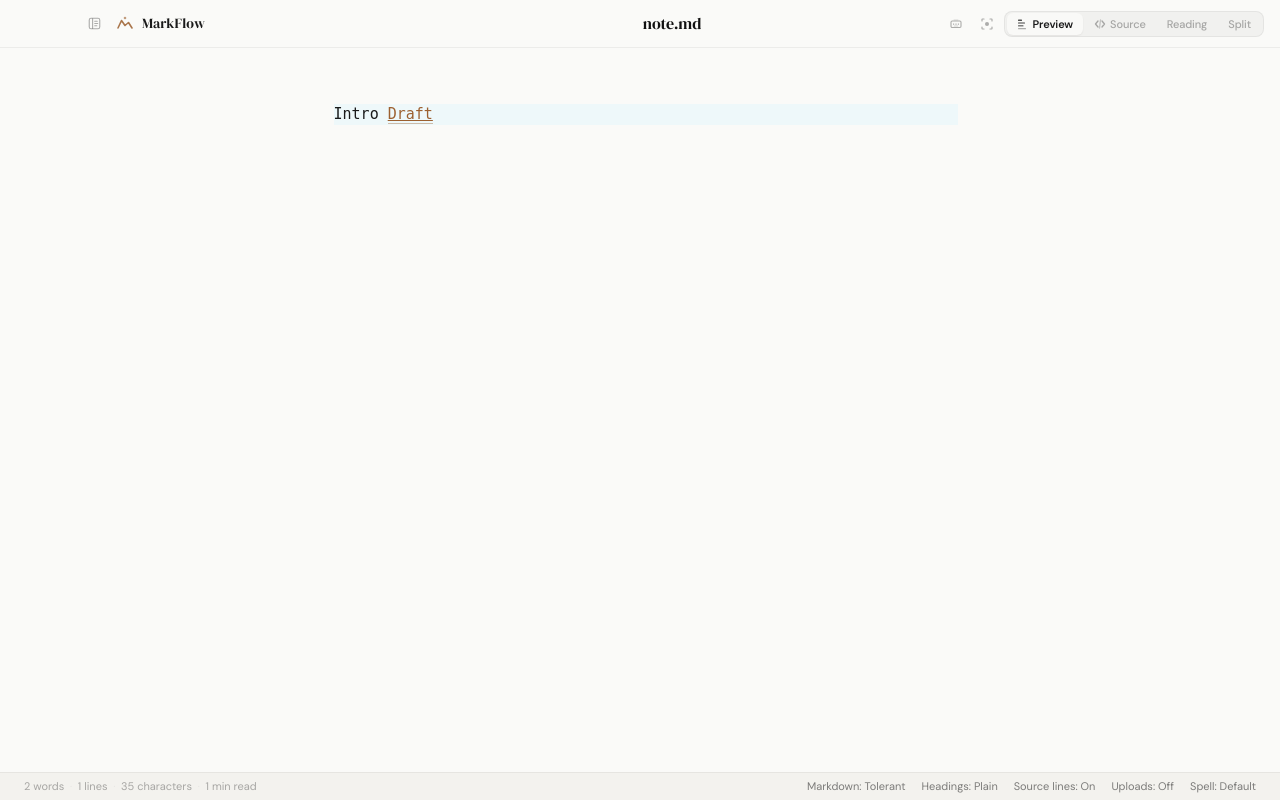
Scenario: App desktop integration › routes missing local markdown links through the create guidance path
This screenshot has width=1280, height=800.
What coordinates should you click on to do the following:
click the link with class "mf-link"
I would click on:
 (410, 114)
Its box is [388,105,433,124].
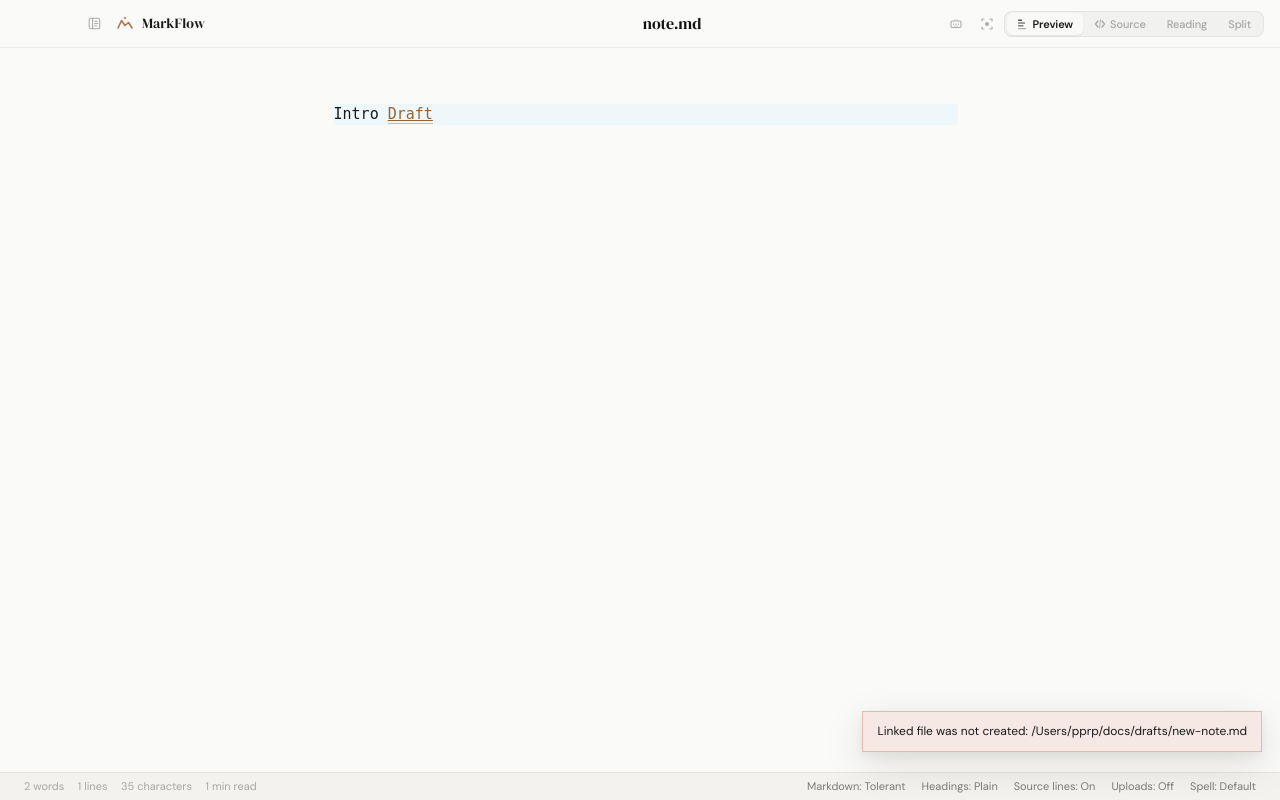
Result: the message reads "Linked file was not created: /Users/pprp/docs/drafts/new-note.md" at [877,723,1247,739]
